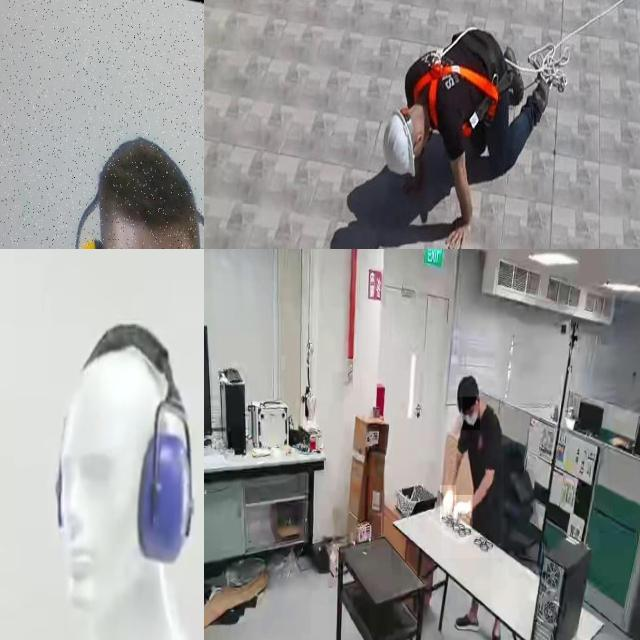Ear-protection: (42, 326, 198, 637), (59, 131, 204, 249)
Harness: (522, 0, 627, 92), (414, 65, 499, 130)
face_mask: (462, 396, 480, 430)
hand_glove: (454, 495, 473, 529), (440, 485, 456, 523)
head_nohelmet: (456, 375, 478, 398)
person: (442, 377, 504, 559)
shoes: (454, 611, 481, 636), (488, 626, 503, 640)
